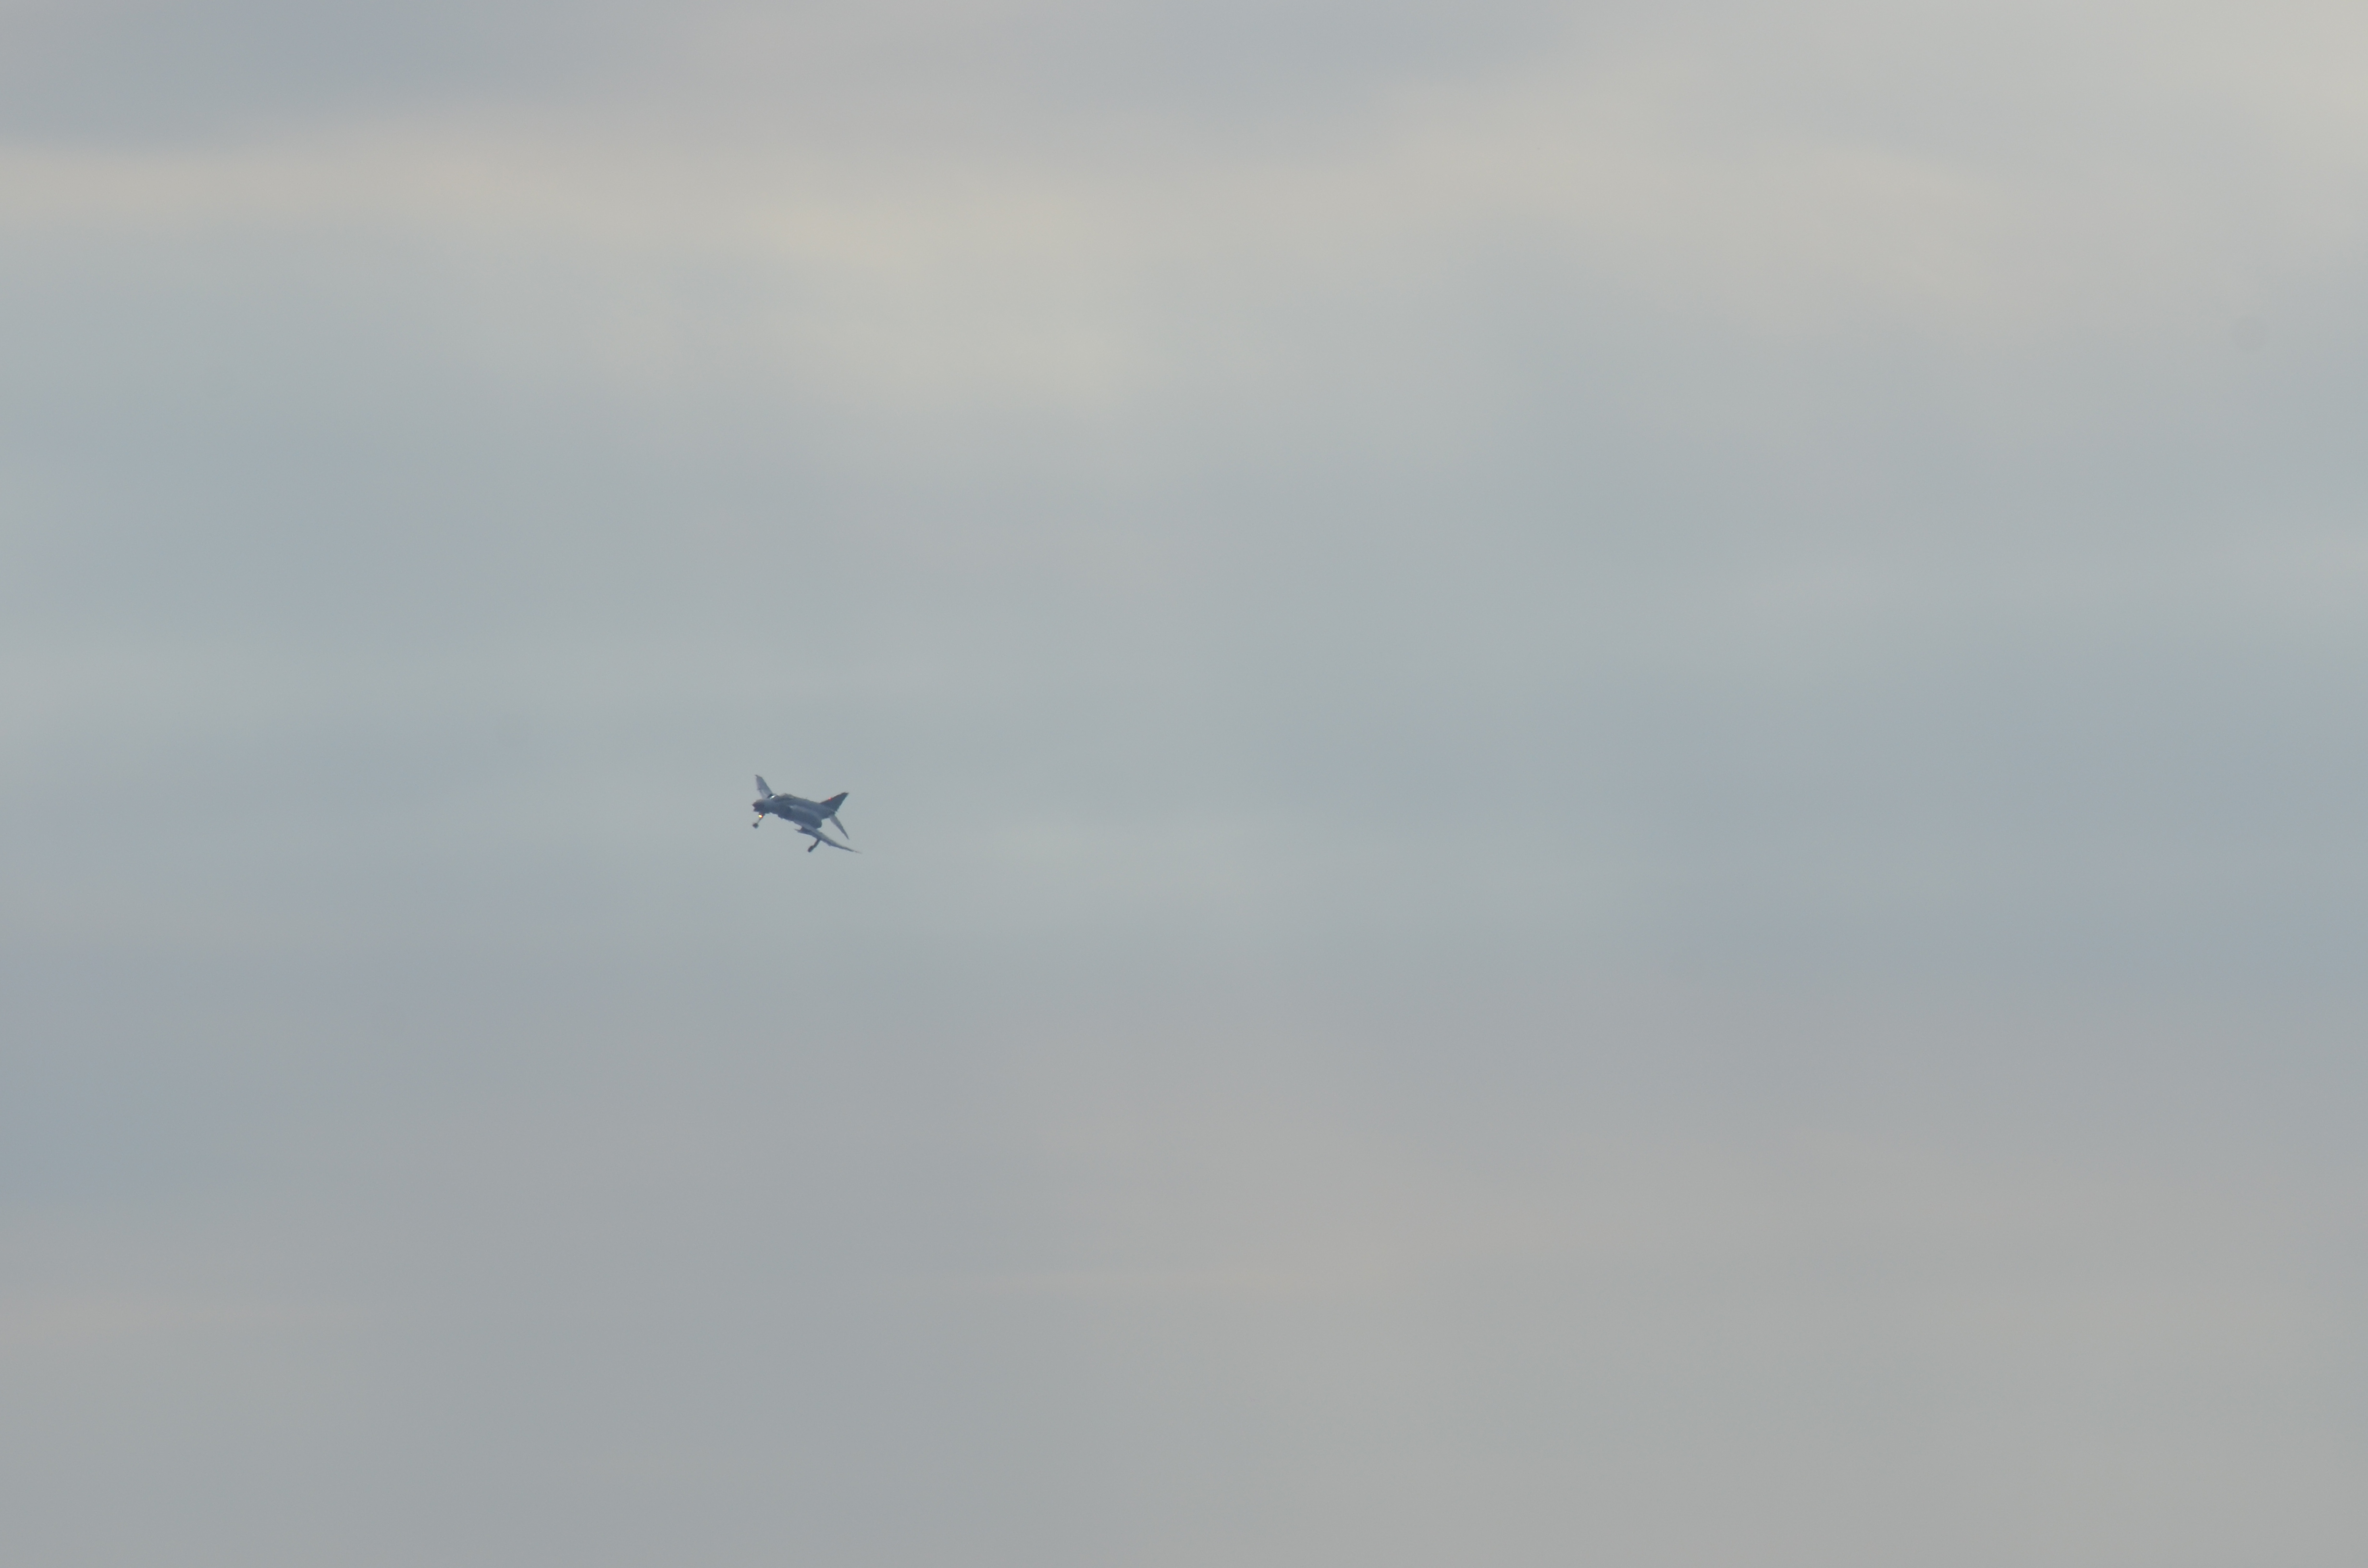F4: (751, 773, 863, 854)
